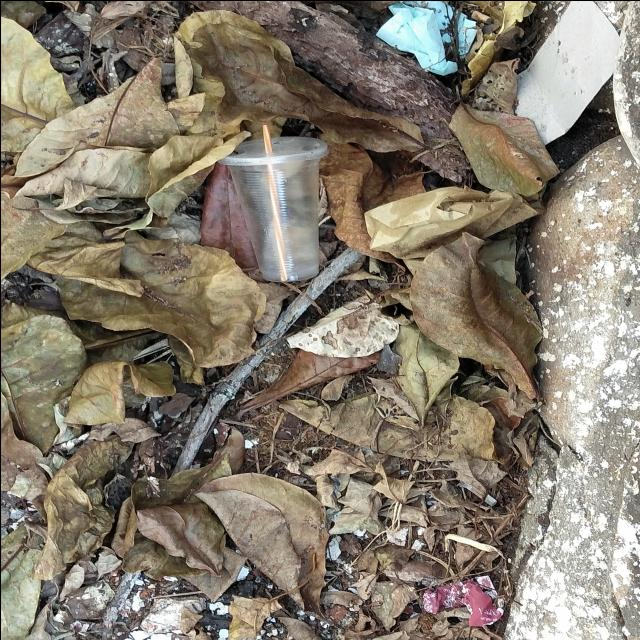Cigarette: (470, 9, 491, 24)
Disposable plastic cup: (217, 136, 328, 281)
Normal paper: (375, 0, 476, 74)
Other carton: (515, 0, 618, 144)
Paper bag: (364, 184, 537, 273)
Plastic lid: (216, 136, 328, 165)
Plastic straw: (261, 123, 288, 281)
Tissues: (421, 574, 505, 625)
